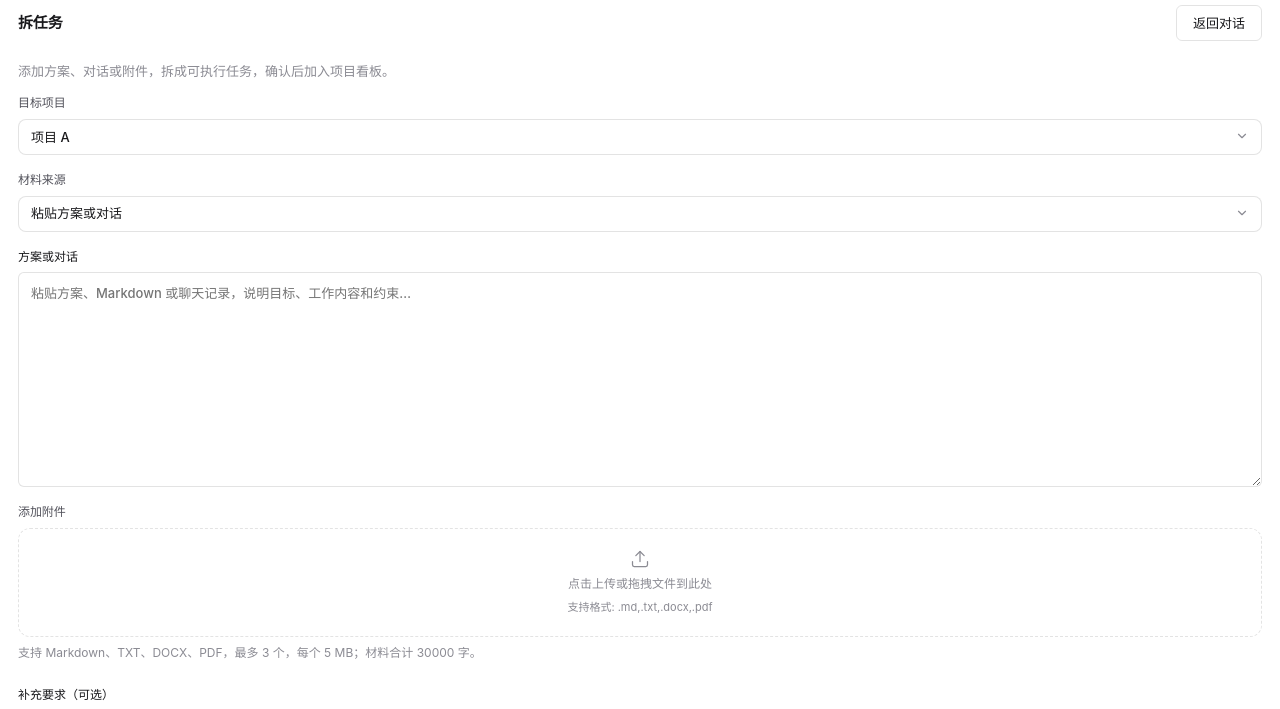
Test: keeps source text after a generation error and allows retry
Type "需要保留的方案" into the text box labelled "方案或对话" at (640, 380), box left=18, top=272, right=1262, bottom=487
(page scrolled)
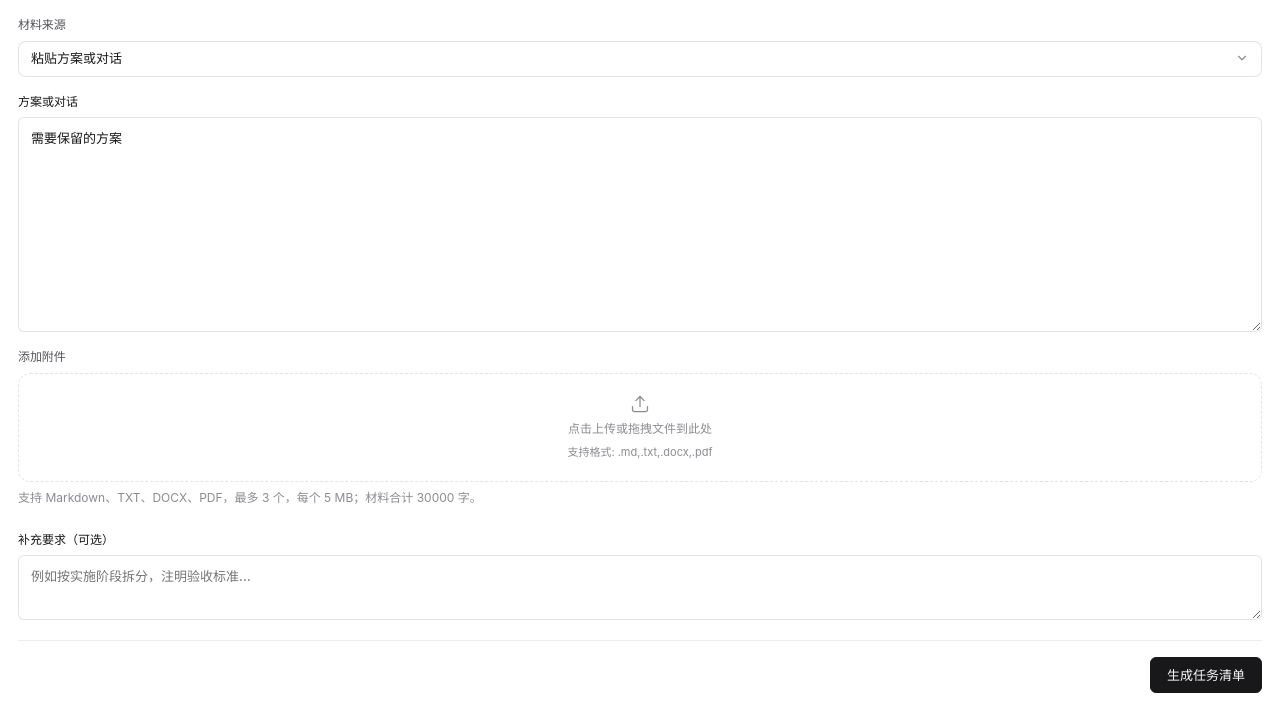
Click the button "生成任务清单" at (1206, 675), box left=1150, top=657, right=1262, bottom=693
(page scrolled)
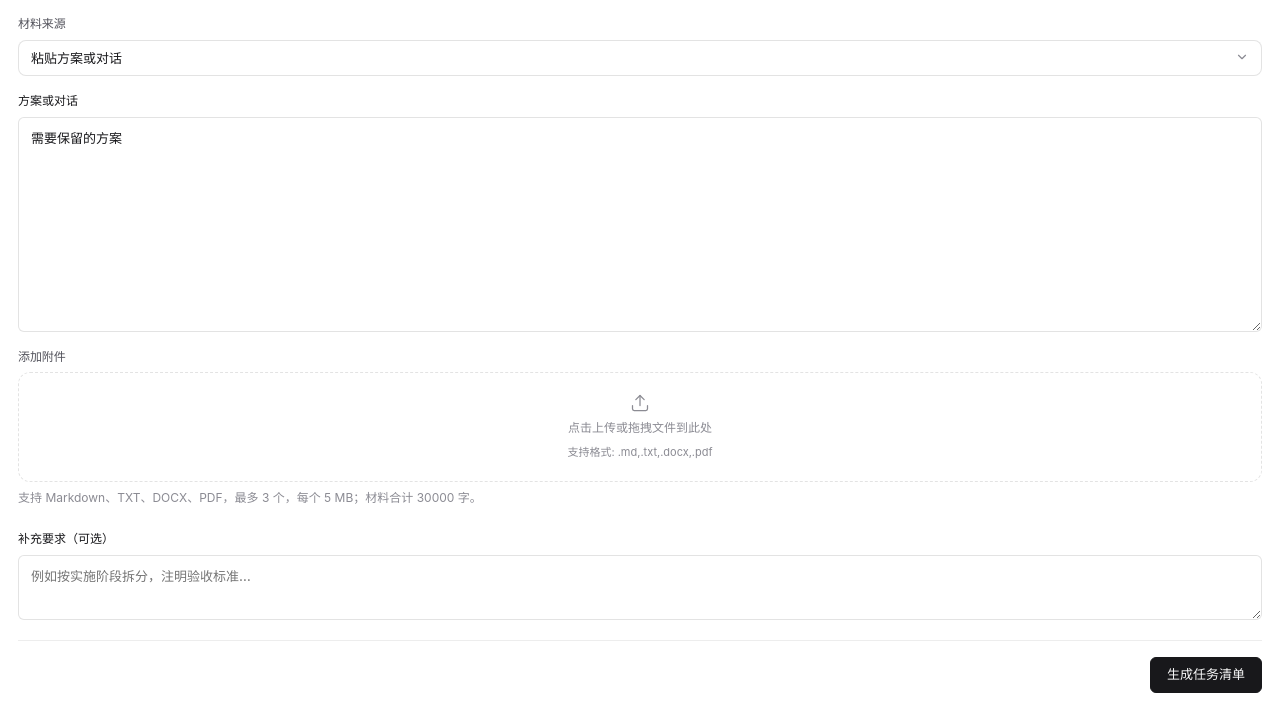
Click the button "生成任务清单" at (1206, 675), box left=1150, top=657, right=1262, bottom=693
(page scrolled)
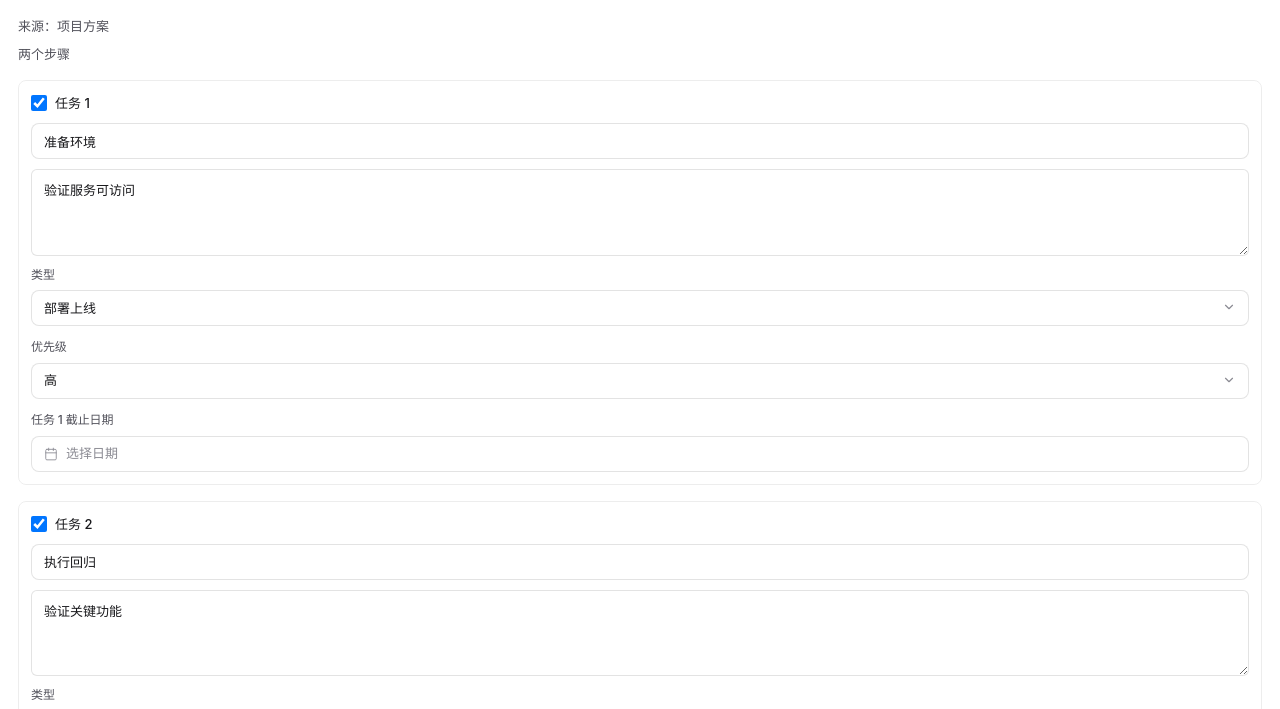
Expected: the field named "任务 1 标题" is shown, left=31, top=124, right=1249, bottom=160
